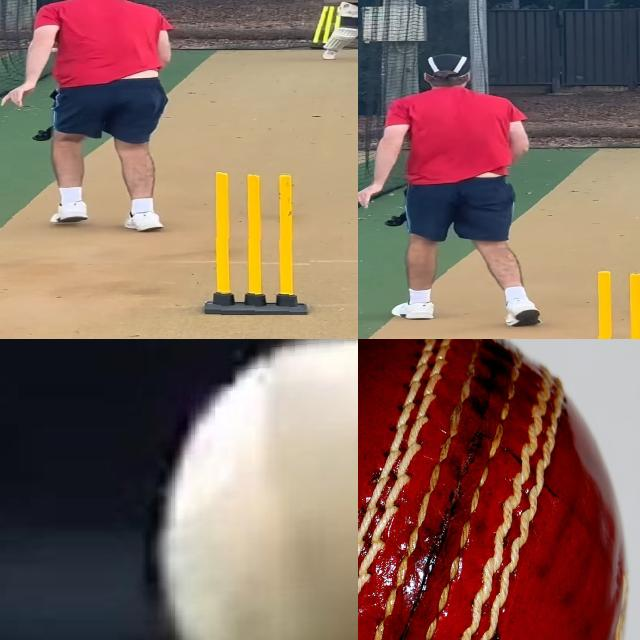Cricket ball: (358, 339, 635, 640), (152, 339, 358, 640)
Stumps: (205, 170, 311, 315), (579, 268, 640, 339)
